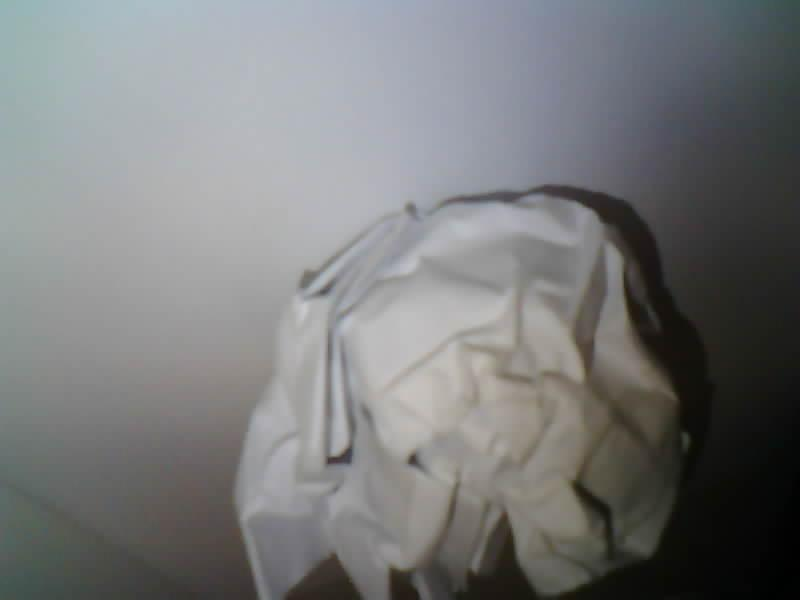biodegradable: (235, 186, 698, 599)
